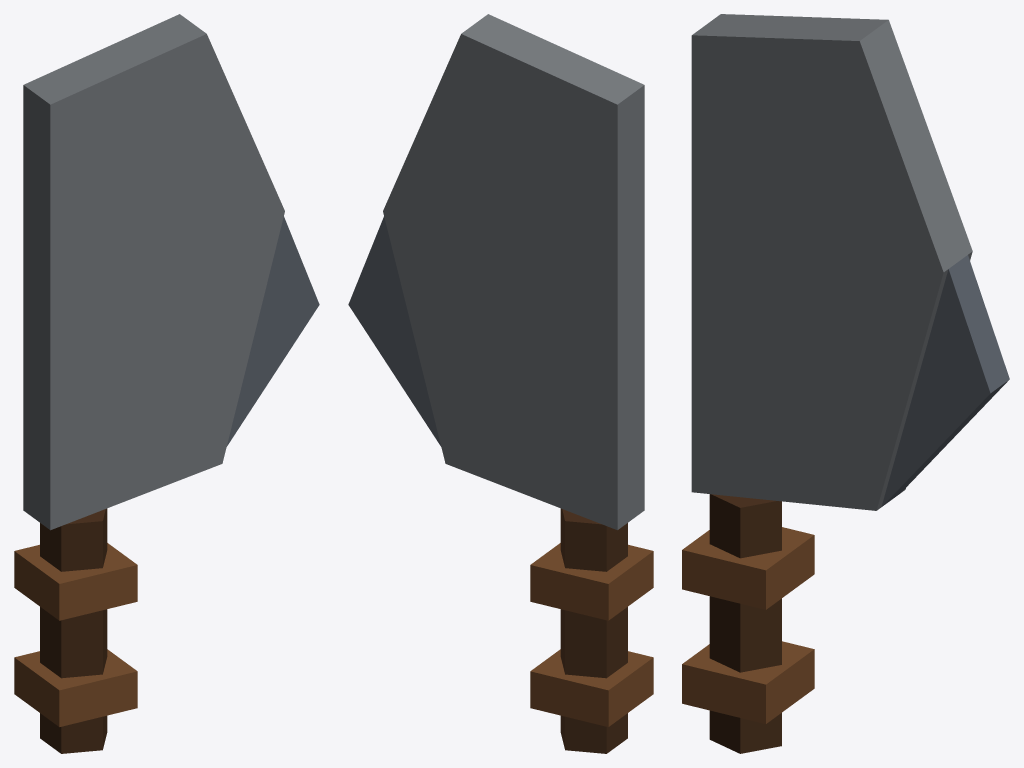
File: goblin_cleaver.glb
The picture shows the model from 3 angles, left to right: view 1: azimuth 30°, elevation 25°; view 2: azimuth 150°, elevation 25°; view 3: azimuth 330°, elevation 25°; orthographic projection. The views are drawn at different scales.
Visible parts, largest first — view 1: goblin_cleaver; view 2: goblin_cleaver; view 3: goblin_cleaver.
Part boxes in pixels (<box>): goblin_cleaver: <box>14,14,319,753</box>; goblin_cleaver: <box>348,14,653,753</box>; goblin_cleaver: <box>682,14,1009,753</box>.
Bounding box in the file's own units: 0.35 × 0.84 × 0.1.
